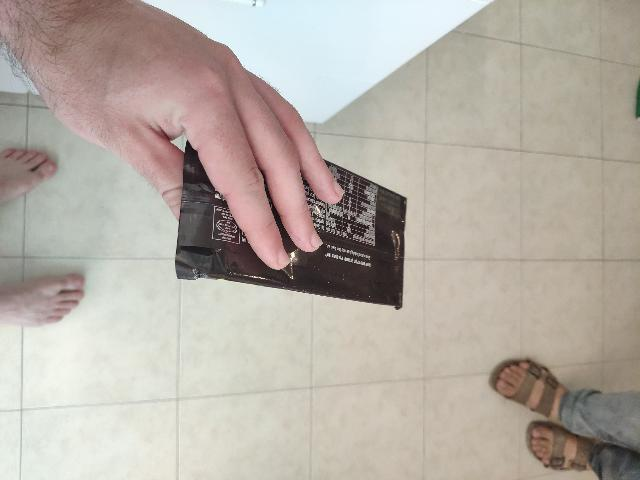chocolate: (269, 224, 471, 480)
